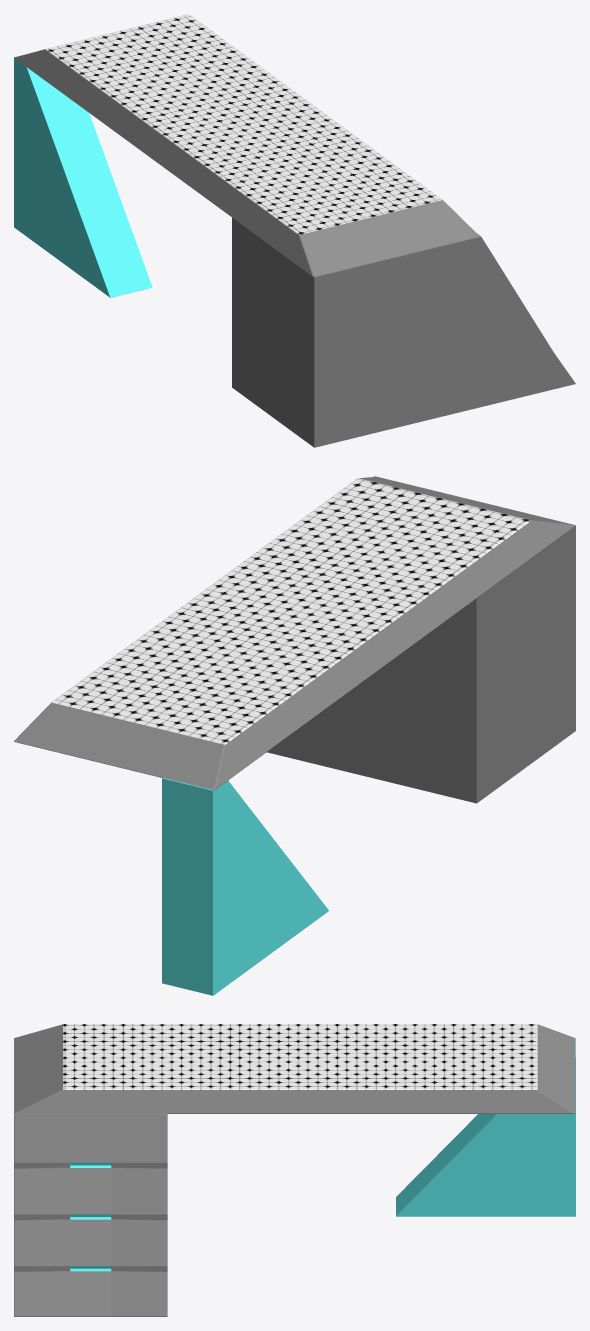
Rendered from SM_Table_01.fbx.
3 renders of one model, top to bottom at view 1: azimuth 30°, elevation 25°; view 2: azimuth 150°, elevation 25°; view 3: azimuth 270°, elevation 25°, orthographic. The views are drawn at different scales.
Parts seen in each view (by area): view 1: SM_Table_01; view 2: SM_Table_01; view 3: SM_Table_01.
Part boxes in pixels (<box>): SM_Table_01: <box>14,14,575,447</box>; SM_Table_01: <box>14,476,575,995</box>; SM_Table_01: <box>14,1024,575,1316</box>.
Bounding box in the file's own units: 129 × 256 × 90.02.
Materials: 1 (1 with a texture image).
